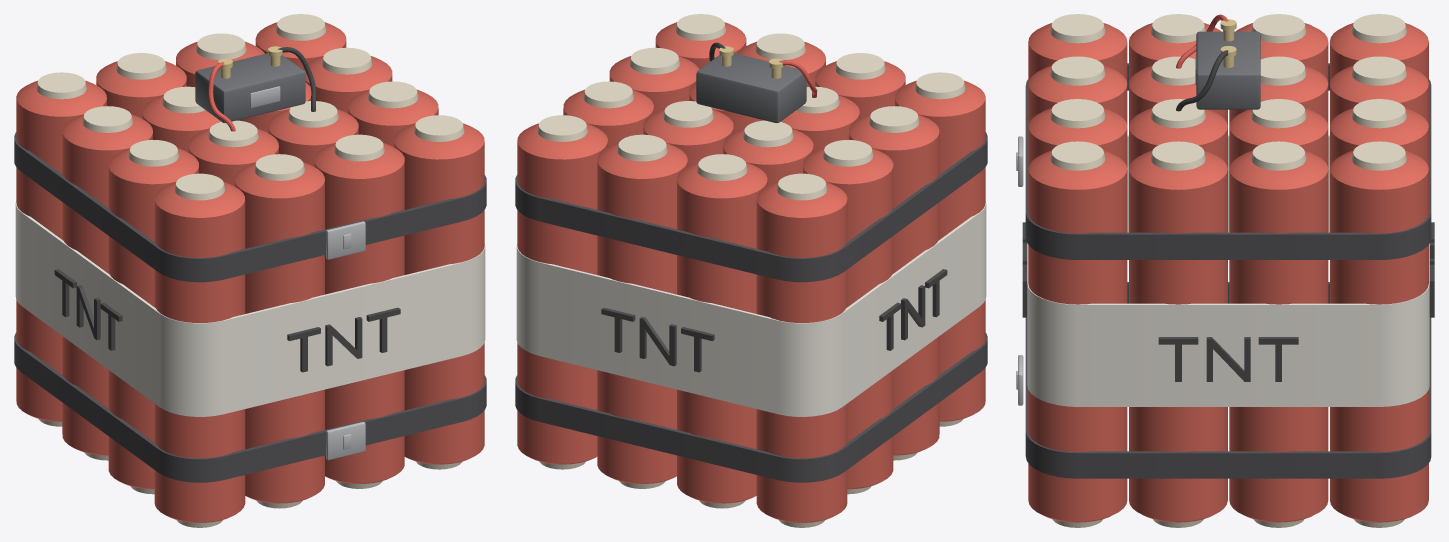
Rendered from tnt.glb.
3 renders of one model, left to right at view 1: azimuth 30°, elevation 25°; view 2: azimuth 150°, elevation 25°; view 3: azimuth 270°, elevation 25°, orthographic. The views are drawn at different scales.
Parts seen in each view (by area): view 1: tnt; view 2: tnt; view 3: tnt.
Boxes of the visible parts, left/top/right/bottom form: tnt: left=14, top=14, right=486, bottom=527; tnt: left=515, top=14, right=987, bottom=527; tnt: left=1016, top=14, right=1434, bottom=527.
Bounding box in the file's own units: 0.82 × 0.9196 × 0.8324.
